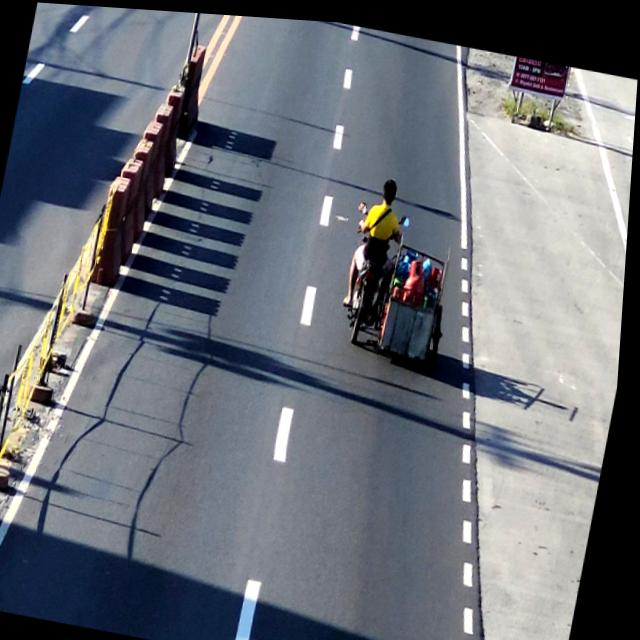Tricycle: (336, 169, 471, 361)
